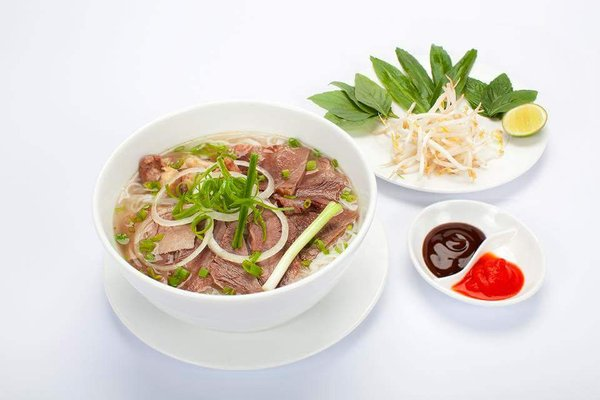sushi: (91, 97, 377, 334), (406, 199, 546, 309)
taco: (502, 102, 549, 137)
